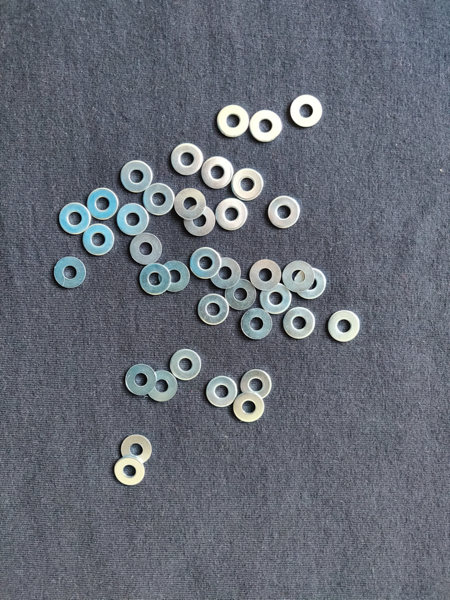circle: (214, 103, 250, 140), (249, 108, 285, 145), (231, 165, 266, 202), (288, 95, 325, 130), (230, 392, 268, 426), (203, 375, 239, 410), (129, 231, 164, 267), (327, 308, 361, 345), (283, 305, 317, 342), (121, 157, 154, 195), (145, 370, 180, 405), (137, 262, 172, 297), (171, 143, 206, 178), (53, 256, 87, 292), (59, 201, 93, 237), (117, 202, 150, 239), (208, 256, 242, 291), (268, 196, 303, 230), (183, 203, 218, 237), (223, 278, 259, 311), (173, 187, 207, 221), (124, 363, 157, 398), (196, 293, 231, 326), (240, 307, 273, 342), (281, 260, 316, 293), (144, 180, 175, 217), (169, 349, 202, 383), (239, 369, 273, 402), (260, 283, 293, 317), (86, 187, 118, 222), (214, 198, 249, 230), (202, 155, 234, 190), (120, 435, 153, 468), (295, 268, 329, 300), (159, 259, 191, 293), (82, 223, 114, 257), (191, 247, 223, 280), (250, 260, 282, 291), (114, 456, 146, 486)
